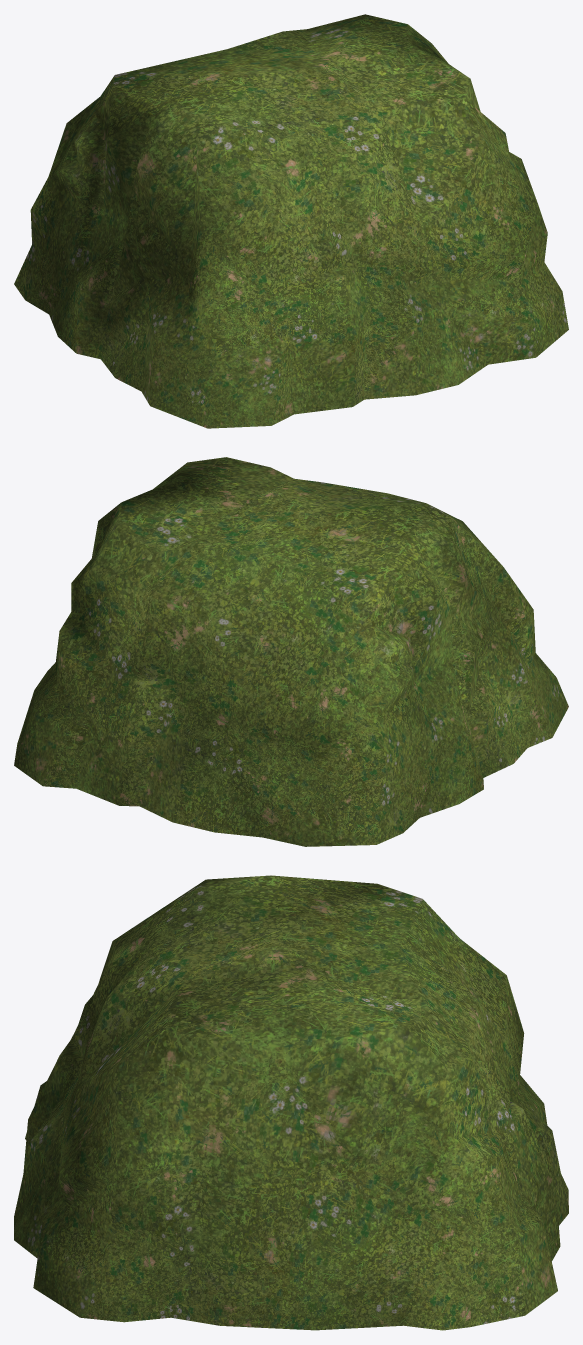
3 renders of one model, top to bottom at view 1: azimuth 30°, elevation 25°; view 2: azimuth 150°, elevation 25°; view 3: azimuth 270°, elevation 25°, orthographic. The views are drawn at different scales.
Parts seen in each view (by area): view 1: t1_ar302_model_mesh; view 2: t1_ar302_model_mesh; view 3: t1_ar302_model_mesh.
Part boxes in pixels (bbox=[...]): t1_ar302_model_mesh: bbox=[14, 14, 568, 428]; t1_ar302_model_mesh: bbox=[14, 457, 568, 846]; t1_ar302_model_mesh: bbox=[14, 875, 568, 1330].
Size of the model in its own units: 8.09 by 4.48 by 8.18.
Materials: 1 (1 with a texture image).
